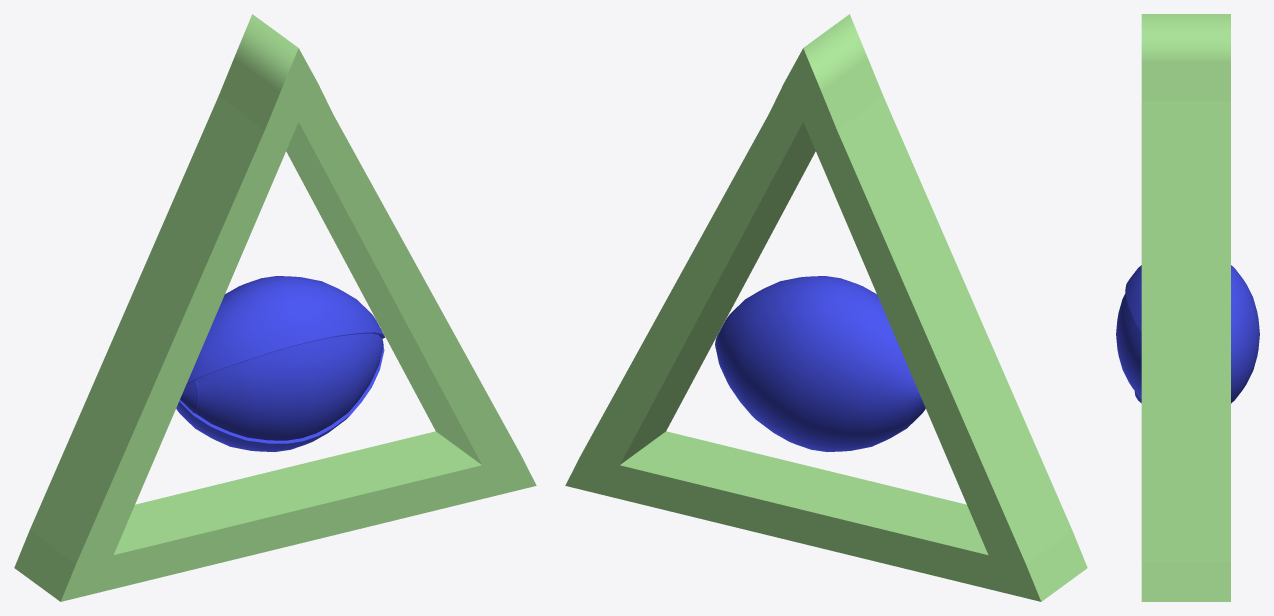
Rendered from GOD.FBX.
3 views of the same model, side by side, from view 1: azimuth 30°, elevation 25°; view 2: azimuth 150°, elevation 25°; view 3: azimuth 270°, elevation 25° (orthographic). The views are drawn at different scales.
Visible parts, largest first — view 1: Triangle, Eye; view 2: Triangle, Eye; view 3: Triangle, Eye.
Boxes of the visible parts, x1=… form: Triangle: x1=14, y1=14, x2=536, y2=601; Eye: x1=176, y1=276, x2=385, y2=451; Triangle: x1=565, y1=14, x2=1087, y2=601; Eye: x1=715, y1=276, x2=925, y2=451; Triangle: x1=1141, y1=14, x2=1230, y2=601; Eye: x1=1116, y1=265, x2=1259, y2=403.
Bounding box in the file's own units: 147 × 146 × 40.12.
